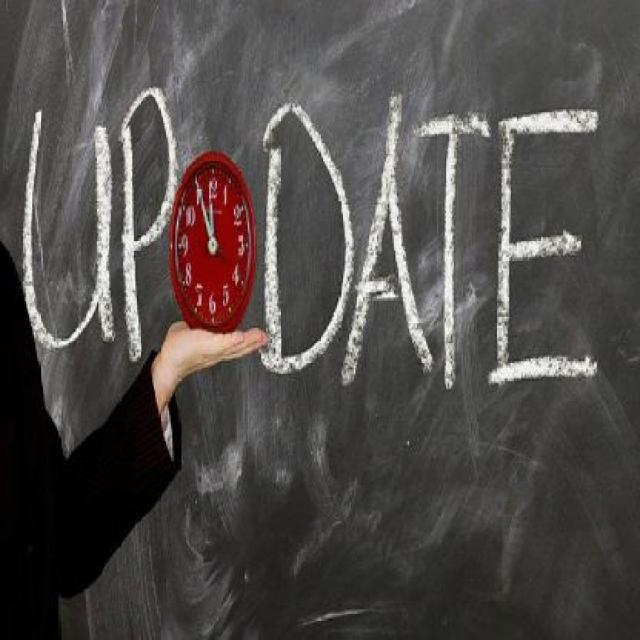clock: (172, 165, 250, 328)
